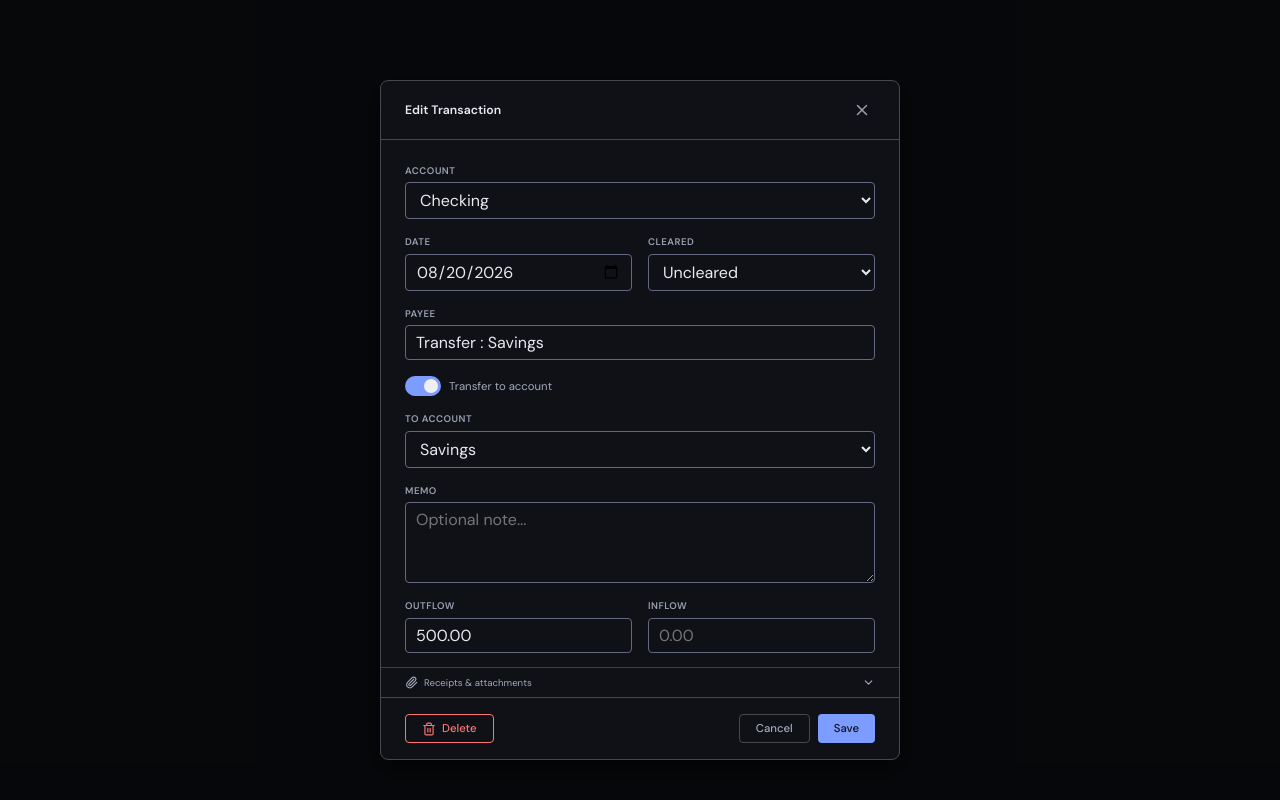
Test: TransactionEditor transfer payee › keeps the payee box in step with the account control
Expected: the field with placeholder "Search or enter payee..." below "Payee" holds "Transfer : Savings", [405,325,875,360]
Select "Vacation Fund" in the dropdown named "To account". click: (640, 449)
box: [405,431,875,468]
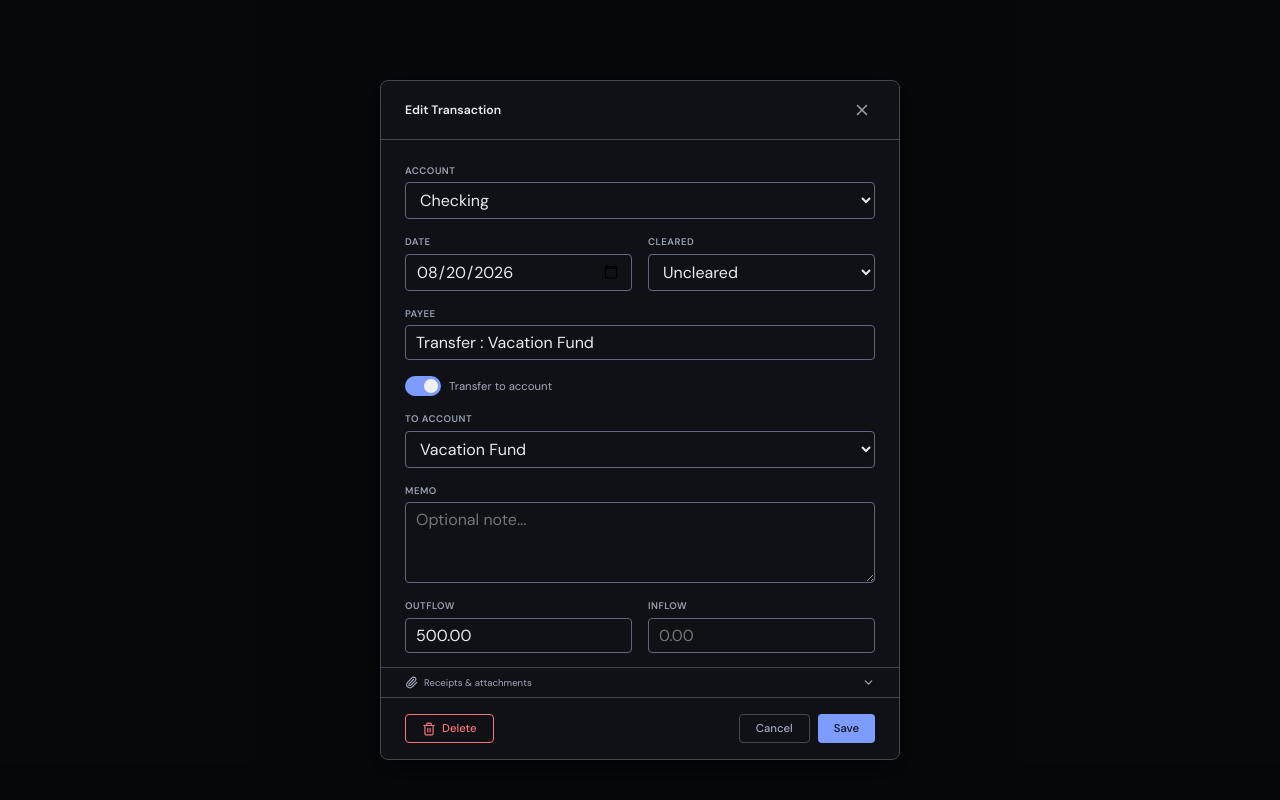
Now the field with placeholder "Search or enter payee..." below "Payee" holds "Transfer : Vacation Fund", box [405,325,875,360]
